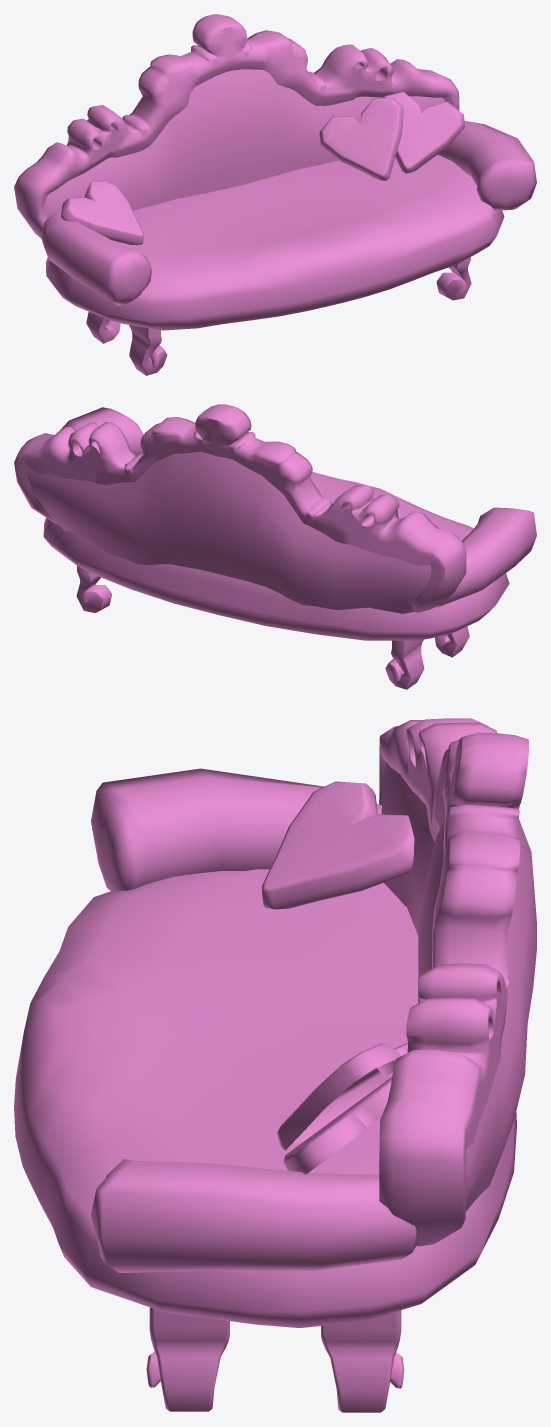
The model's file is ENV_HAU_COUCH_MODEL.fbx.
3 views of the same model, one above another, from view 1: azimuth 30°, elevation 25°; view 2: azimuth 150°, elevation 25°; view 3: azimuth 270°, elevation 25° (orthographic). The views are drawn at different scales.
Visible parts, largest first — view 1: ENV_HAU_COUCH_MODEL; view 2: ENV_HAU_COUCH_MODEL; view 3: ENV_HAU_COUCH_MODEL.
Boxes of the visible parts, <box> form: ENV_HAU_COUCH_MODEL: <box>14,14,536,375</box>; ENV_HAU_COUCH_MODEL: <box>14,404,536,689</box>; ENV_HAU_COUCH_MODEL: <box>14,718,536,1412</box>.
Bounding box in the file's own units: 190 × 105 × 97.04.
